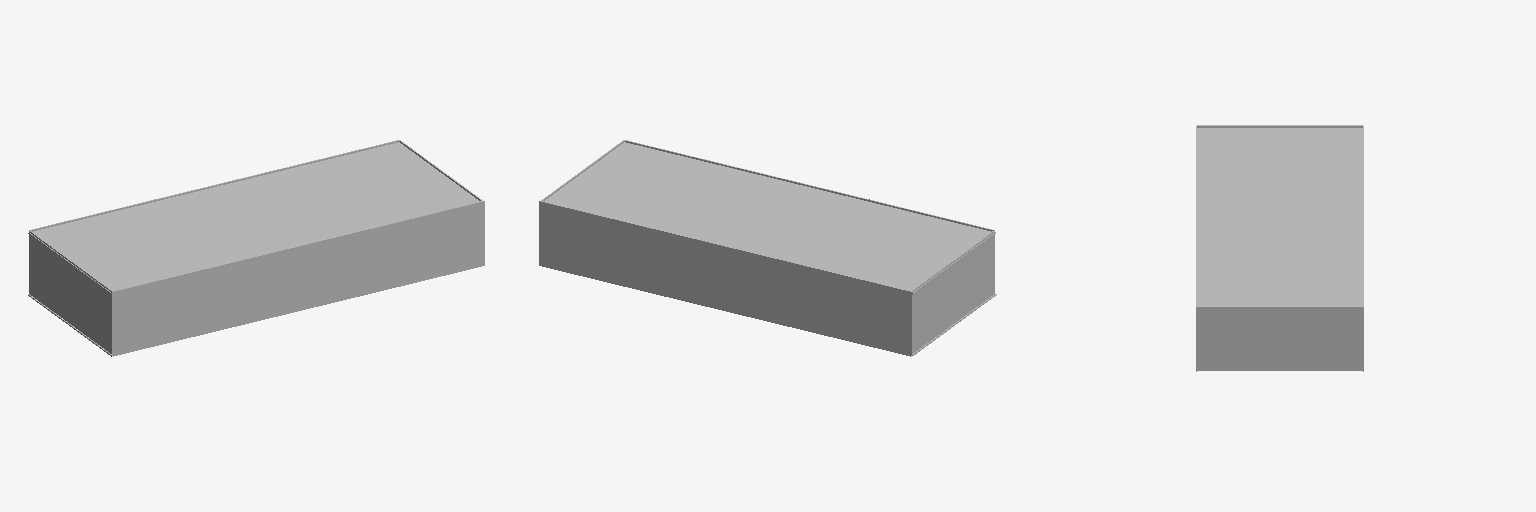
Rendered from museumTest.obj.
The picture shows the model from 3 angles: view 1: azimuth 30°, elevation 25°; view 2: azimuth 150°, elevation 25°; view 3: azimuth 270°, elevation 25°; orthographic projection.
Visible parts, largest first — view 1: Cube.004, Cube.003, Cube.007, Cube.006; view 2: Cube.004, Cube.006, Cube.007, Cube.003; view 3: Cube.004, Cube.002.
Boxes of the visible parts, x1,y1,x2,y2 form: Cube.004: [28, 142, 479, 294]; Cube.003: [113, 201, 484, 356]; Cube.007: [29, 231, 112, 354]; Cube.006: [29, 140, 398, 231]; Cube.004: [544, 142, 995, 294]; Cube.006: [539, 201, 910, 356]; Cube.007: [911, 230, 994, 355]; Cube.003: [625, 140, 993, 231]; Cube.004: [1197, 128, 1362, 305]; Cube.002: [1197, 306, 1362, 370].
Size of the model in its own units: 181 by 37.18 by 70.65.